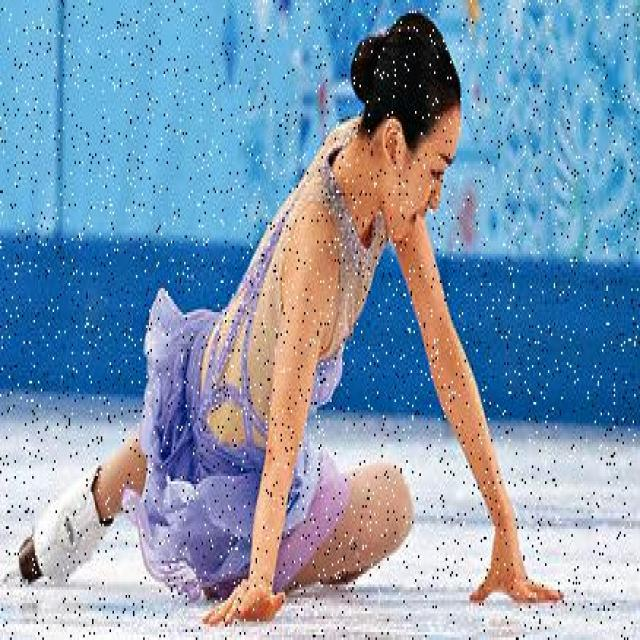fall: (94, 42, 508, 600)
